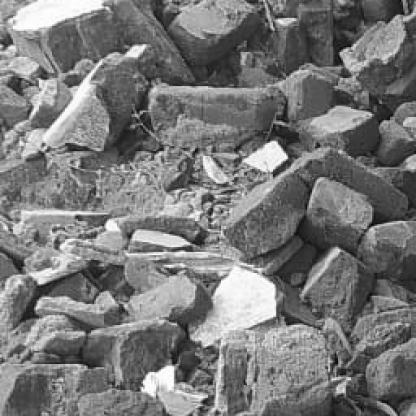cementitious_debris: (180, 152, 270, 228), (178, 355, 216, 391)
